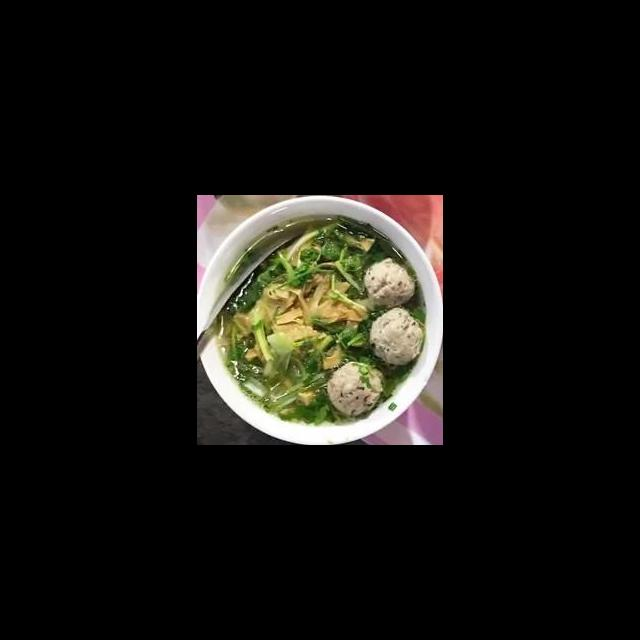vien moc: (364, 306, 427, 369), (324, 359, 387, 415), (363, 257, 419, 311)
